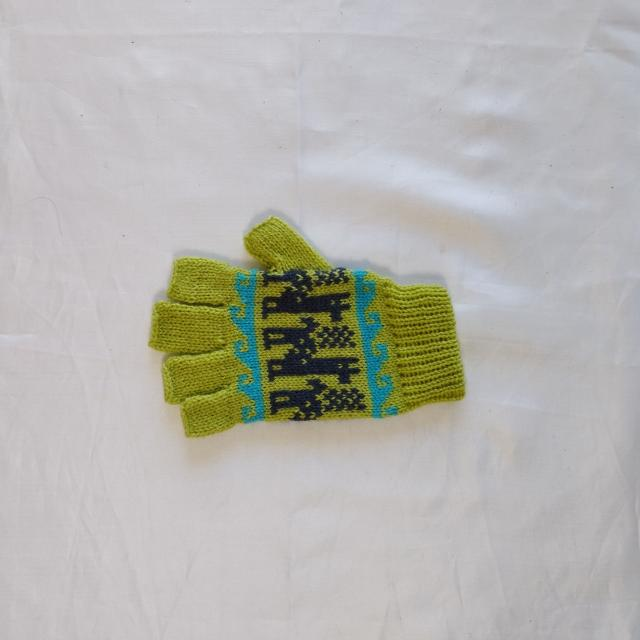Guante: (148, 215, 466, 439)
